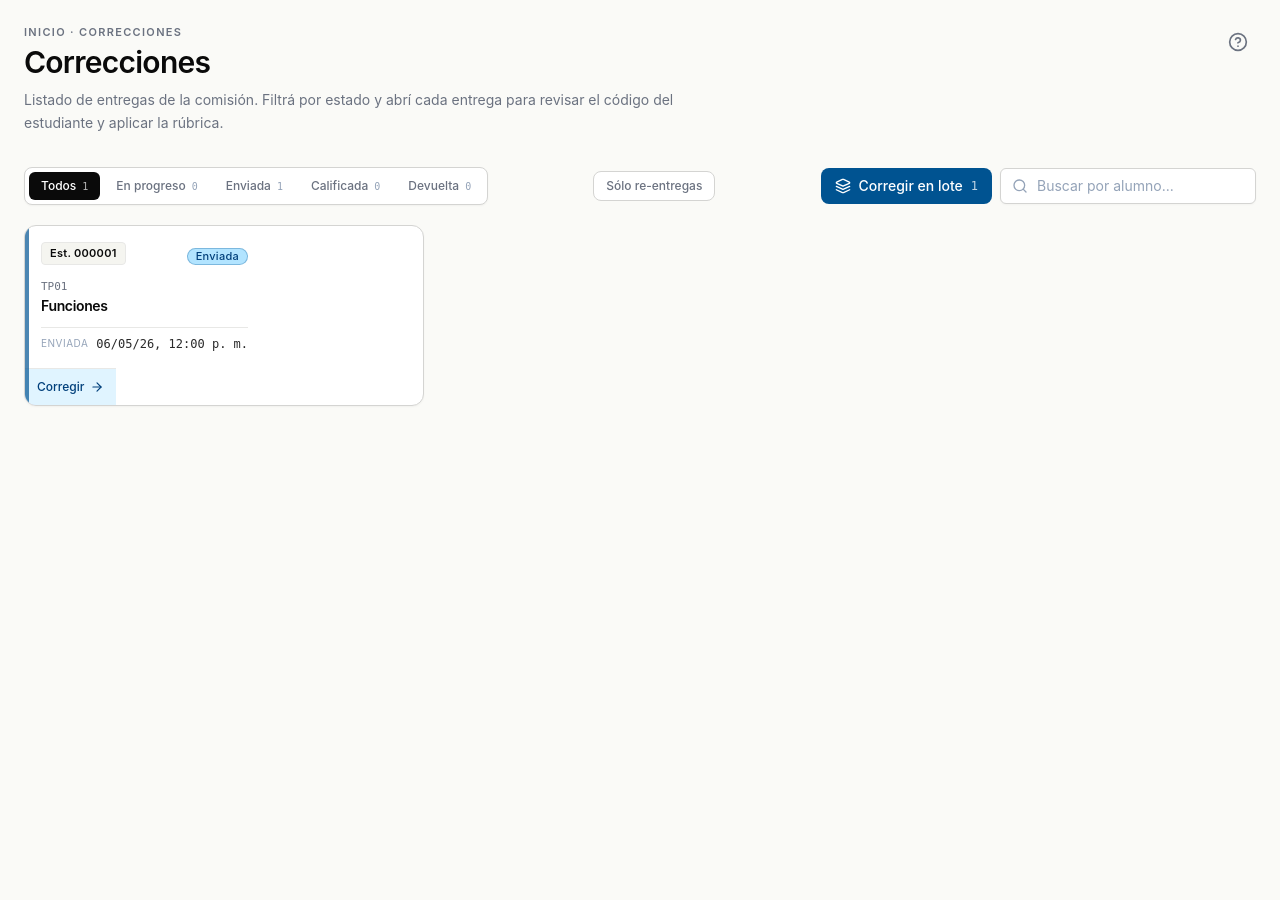
Scenario: Publicar nota › el boton de la primera calificacion dice 'Publicar nota'
Click the button with test id "entrega-drill-btn". click: [83, 254]
box: [24, 224, 424, 406]
(page scrolled)
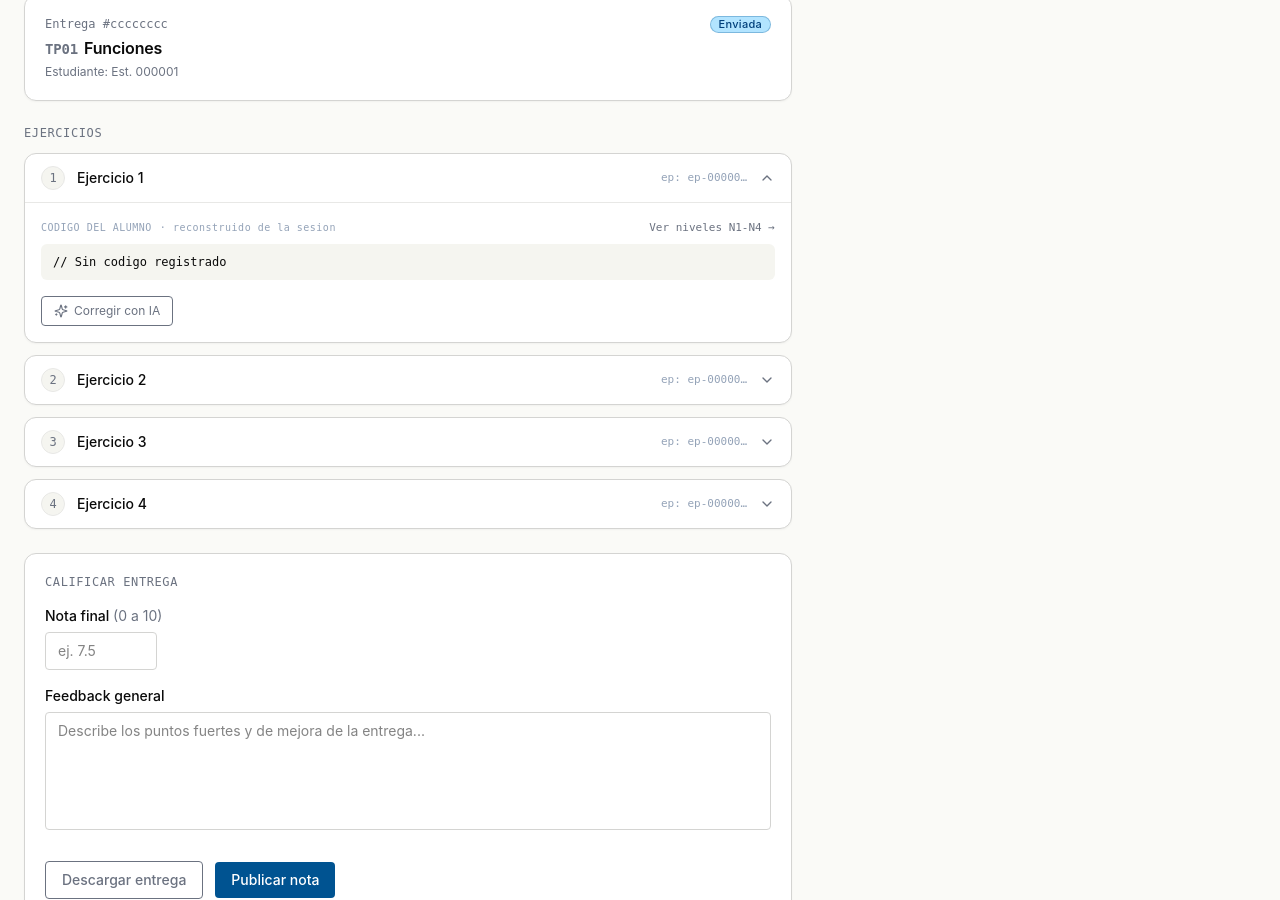
Check: the button with test id "calificar-btn" reads "Publicar nota", box [215, 862, 336, 898]
